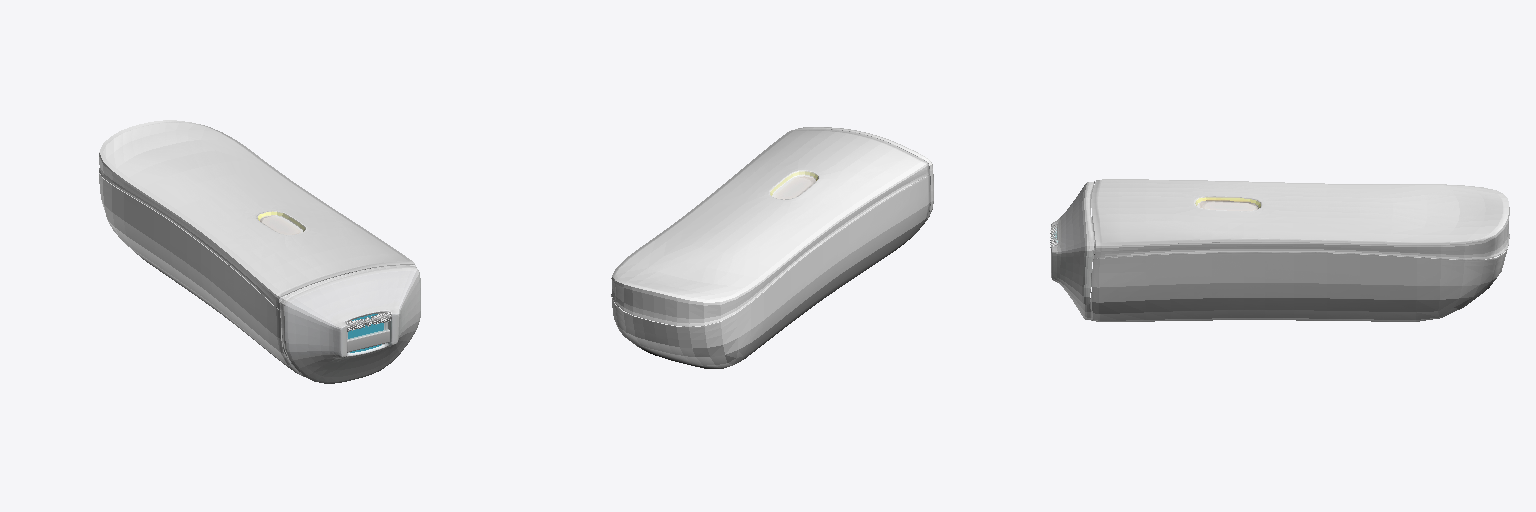
The picture shows the model from 3 angles: view 1: azimuth 30°, elevation 25°; view 2: azimuth 150°, elevation 25°; view 3: azimuth 270°, elevation 25°; orthographic projection.
Parts seen in each view (by area): view 1: Body, Head, Chrome; view 2: Body, Head; view 3: Body, Head.
Part boxes in pixels (x1,y1,x2,y2): Body: (99, 120, 414, 376); Head: (280, 265, 420, 383); Chrome: (347, 320, 389, 352); Body: (611, 129, 930, 368); Head: (798, 127, 933, 225); Body: (1090, 179, 1509, 321); Head: (1051, 181, 1094, 320).
Bounding box in the file's own units: 5.32 × 3.94 × 15.2.
6 materials, 4 textured.